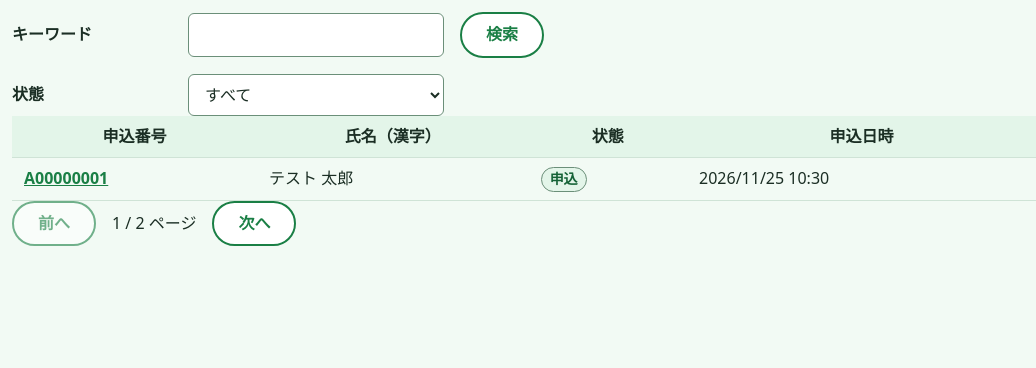
Test: キーワードとページの誤りが同時に来たら、両方を画面の順に出す
The width and height of the screenshot is (1036, 368).
Expected: the table is shown, 12,116 -> 1035,201
Click the button "次へ".
click(254, 224)  # box 212,201 -> 296,246
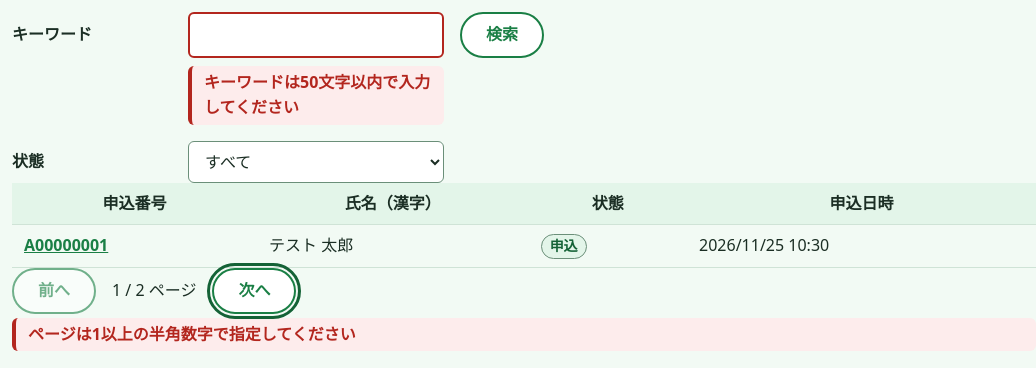
Result: the messages read "キーワードは50文字以内で入力してください", "ページは1以上の半角数字で指定してください", in this order at 188,66 -> 444,125; 12,318 -> 1035,351
